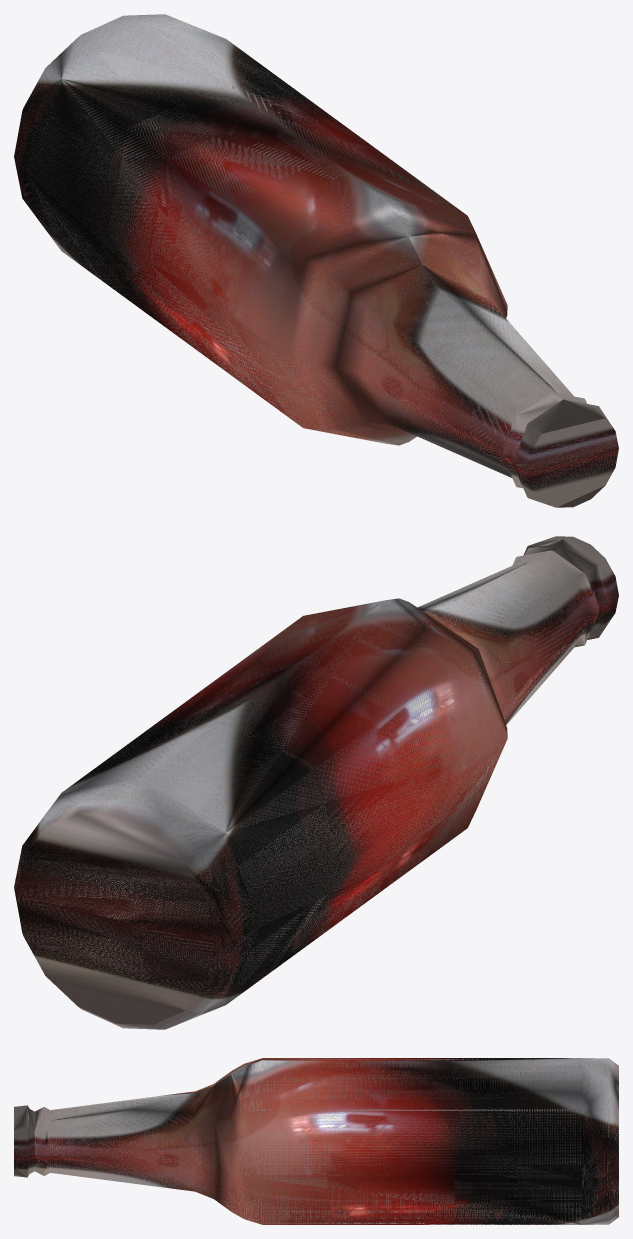
Rendered from model_align.obj.
3 renders of one model, top to bottom at view 1: azimuth 30°, elevation 25°; view 2: azimuth 150°, elevation 25°; view 3: azimuth 270°, elevation 25°, orthographic. The views are drawn at different scales.
Bounding box in the file's own units: 0.04 × 0.04 × 0.1362.
